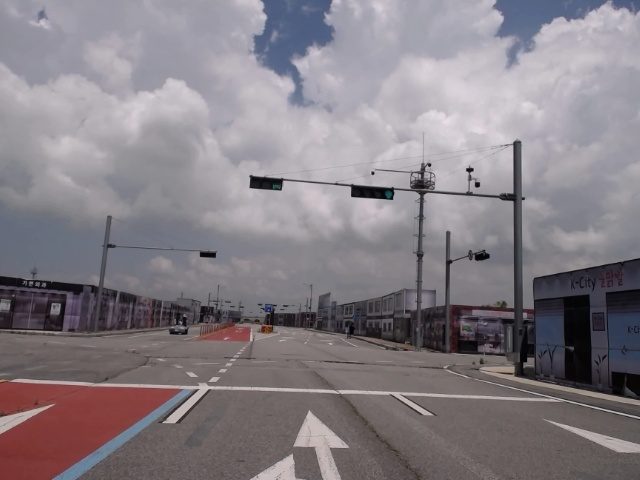straight_green_4: (350, 186, 396, 201)
